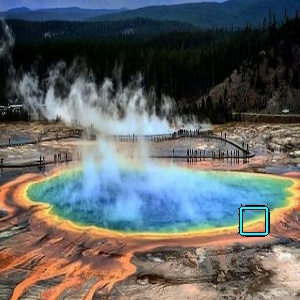square: (236, 204, 271, 237)
